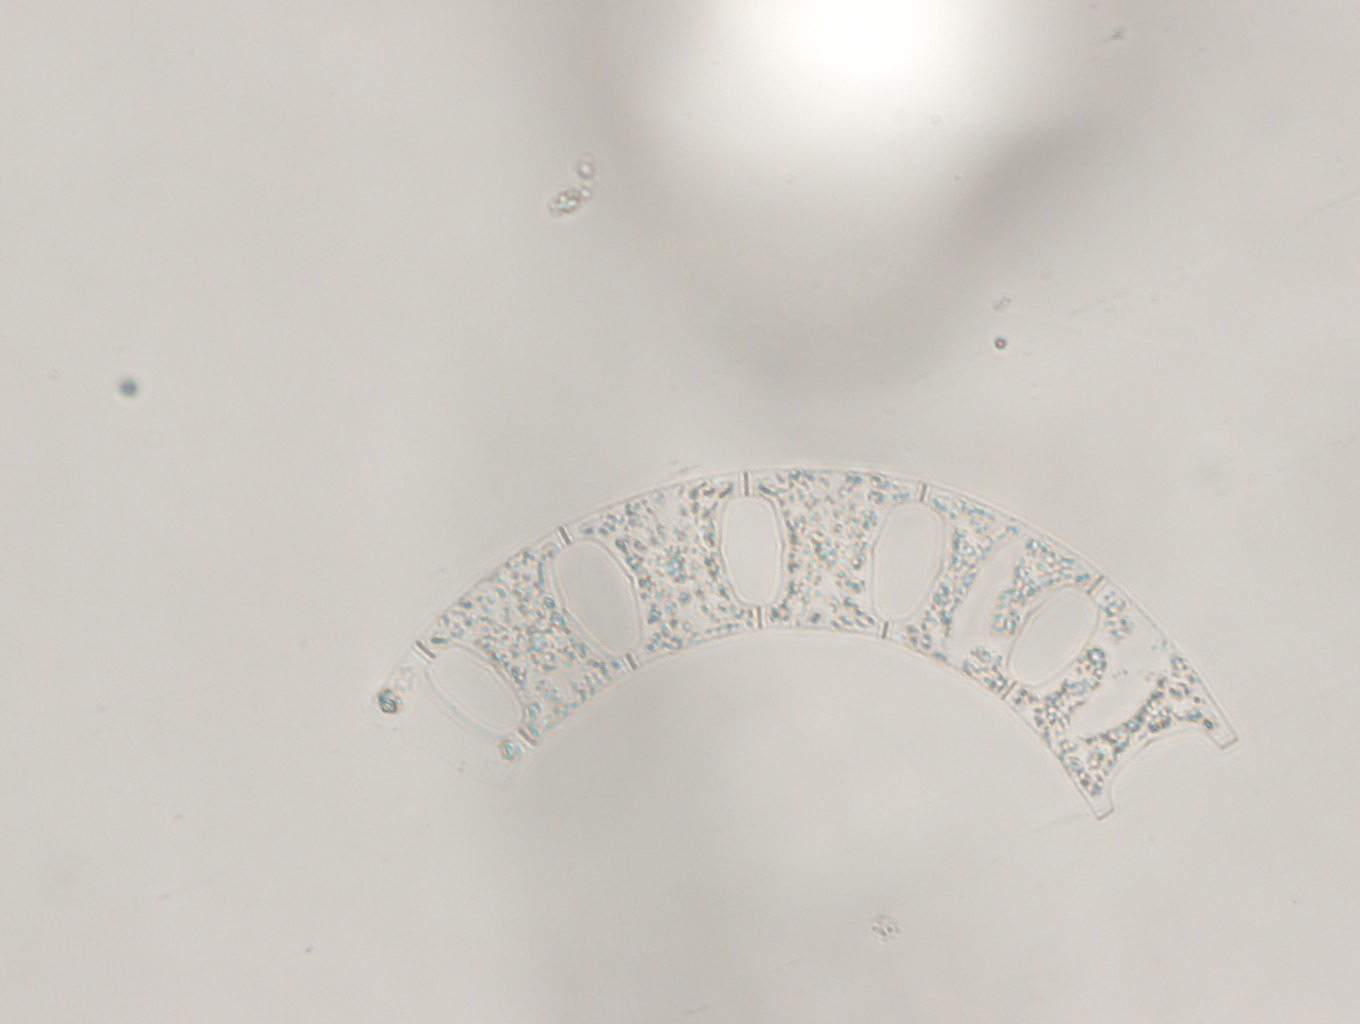eucampia: (366, 459, 1243, 828)
